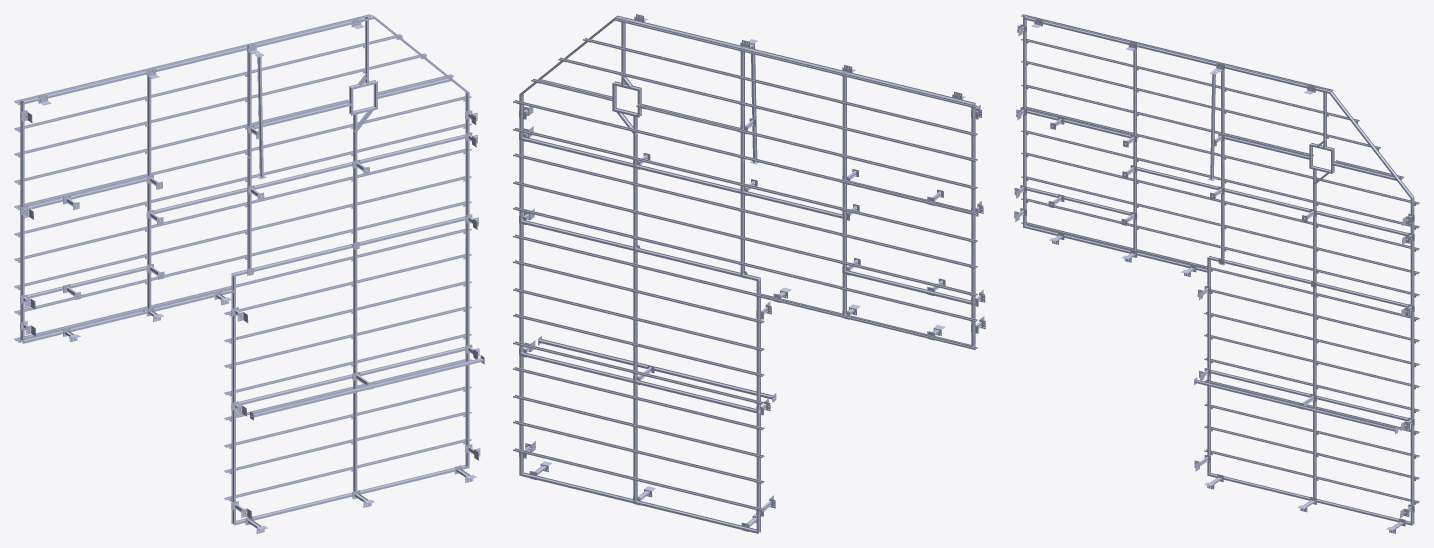
3 renders of one model, left to right at view 1: azimuth 30°, elevation 25°; view 2: azimuth 150°, elevation 25°; view 3: azimuth 330°, elevation 25°, orthographic. The views are drawn at different scales.
Visible parts, largest first — view 1: 邊框0325NewV2_預設<機器加工>, 輔樑H-8835mm_預設<機器加工>, 輔樑H-4400mm_預設<機器加工>, C11-5910mm_預設<機器加工>; view 2: 邊框0325NewV2_預設<機器加工>, 輔樑H-8835mm_預設<機器加工>, C11-5910mm_預設<機器加工>, 輔樑H-4400mm_預設<機器加工>; view 3: 邊框0325NewV2_預設<機器加工>, 輔樑H-8835mm_預設<機器加工>, 輔樑H-4400mm_預設<機器加工>.
Part boxes in pixels (<box>): 邊框0325NewV2_預設<機器加工>: <box>20,15,469,525</box>; 輔樑H-8835mm_預設<機器加工>: <box>250,355,484,420</box>; 輔樑H-4400mm_預設<機器加工>: <box>247,53,266,178</box>; C11-5910mm_預設<機器加工>: <box>246,34,402,73</box>; 邊框0325NewV2_預設<機器加工>: <box>519,15,975,533</box>; 輔樑H-8835mm_預設<機器加工>: <box>538,336,776,402</box>; C11-5910mm_預設<機器加工>: <box>583,38,741,78</box>; 輔樑H-4400mm_預設<機器加工>: <box>740,39,758,164</box>; 邊框0325NewV2_預設<機器加工>: <box>1023,16,1414,525</box>; 輔樑H-8835mm_預設<機器加工>: <box>1194,377,1398,434</box>; 輔樑H-4400mm_預設<機器加工>: <box>1208,71,1224,180</box>.
Bounding box in the file's own units: 17.45 × 17.62 × 1.44.
